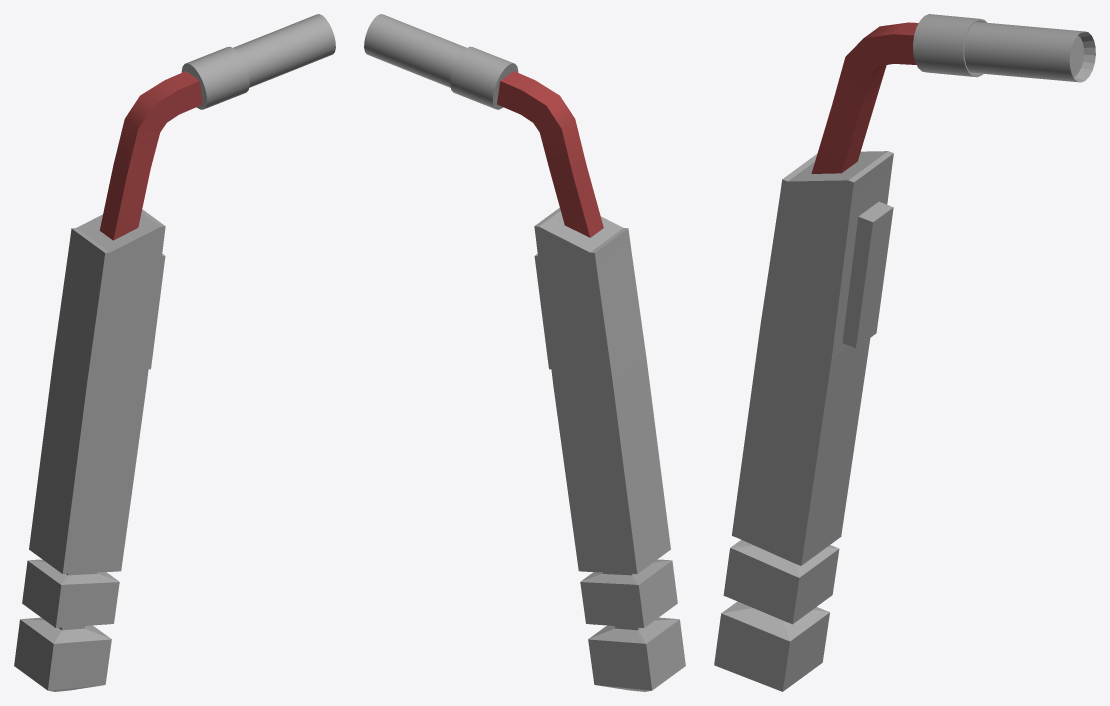
File: Tourch.fbx
The picture shows the model from 3 angles, left to right: view 1: azimuth 30°, elevation 25°; view 2: azimuth 150°, elevation 25°; view 3: azimuth 330°, elevation 25°; orthographic projection. The views are drawn at different scales.
Parts seen in each view (by area): view 1: pCube1, pCube2, pasted__pCylinder1, pCylinder1; view 2: pCube1, pCube2, pasted__pCylinder1, pCylinder1; view 3: pCube1, pCube2, pasted__pCylinder1, pasted__pCube1, pCylinder1.
Boxes of the visible parts, box(x1,y1,x2,y2) form: pCube1: box(14, 209, 165, 691); pCube2: box(99, 71, 202, 240); pasted__pCylinder1: box(233, 14, 335, 87); pCylinder1: box(181, 46, 249, 109); pCube1: box(534, 207, 685, 691); pCube2: box(497, 71, 603, 237); pasted__pCylinder1: box(364, 14, 466, 87); pCylinder1: box(450, 46, 518, 109); pCube1: box(714, 151, 893, 691); pCube2: box(811, 22, 918, 173); pasted__pCylinder1: box(964, 22, 1095, 82); pasted__pCube1: box(842, 201, 893, 348); pCylinder1: box(913, 14, 986, 77).
Bounding box in the file's own units: 5.07 × 9.97 × 1.
